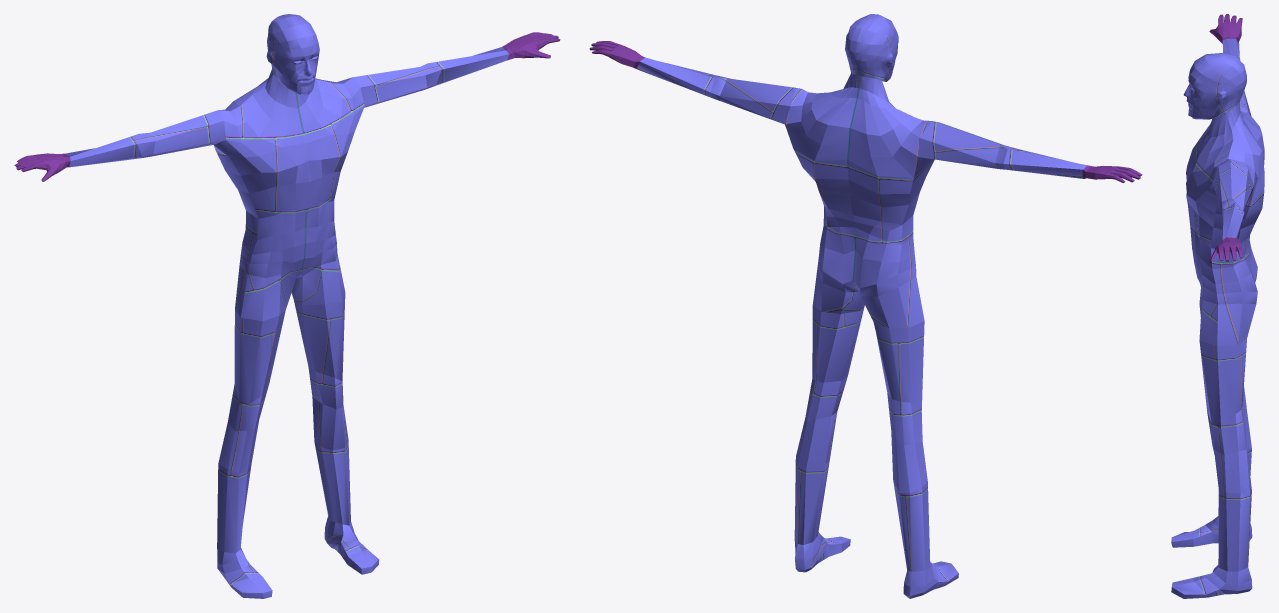
The model's file is testMeshMaterial.glb.
3 renders of one model, left to right at view 1: azimuth 30°, elevation 25°; view 2: azimuth 150°, elevation 25°; view 3: azimuth 270°, elevation 25°, orthographic. The views are drawn at different scales.
Visible parts, largest first — view 1: tronToon.001; view 2: tronToon.001; view 3: tronToon.001.
Part boxes in pixels (box(x1,y1,x2,y2)): tronToon.001: box(14, 14, 560, 598); tronToon.001: box(589, 14, 1142, 598); tronToon.001: box(1171, 14, 1264, 598).
Bounding box in the file's own units: 7.17 × 6.96 × 1.15.
1 material, 1 textured.
